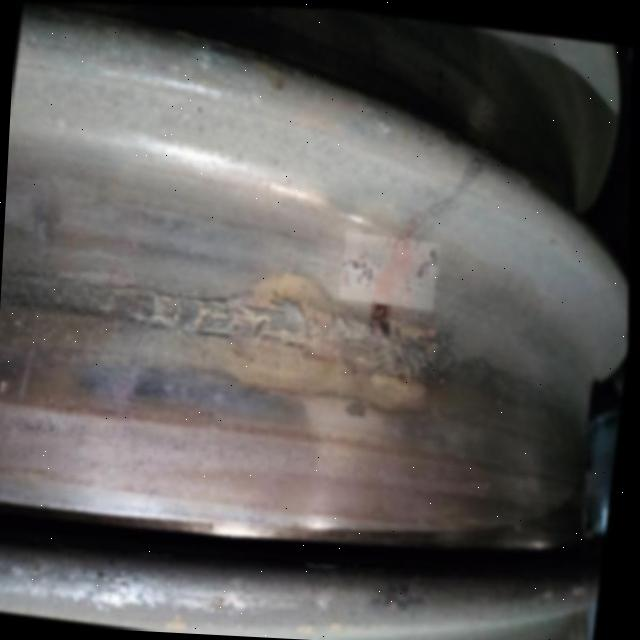Rollerpile: (1, 243, 466, 402)
